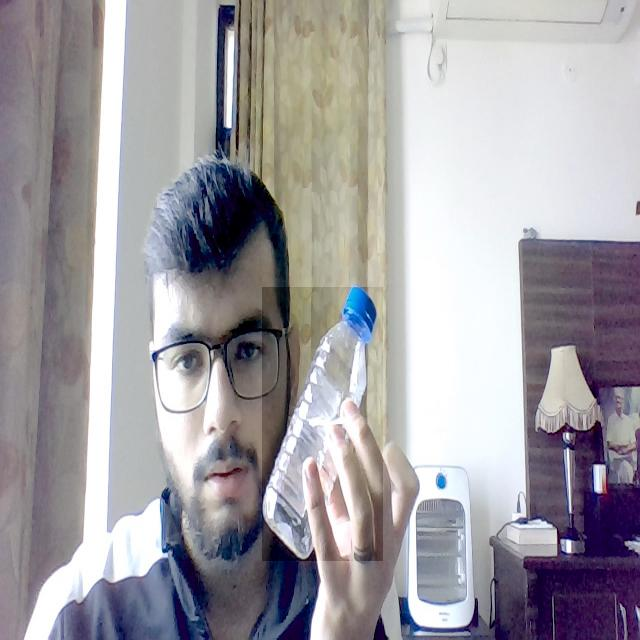half-bottle: (262, 287, 383, 561)
